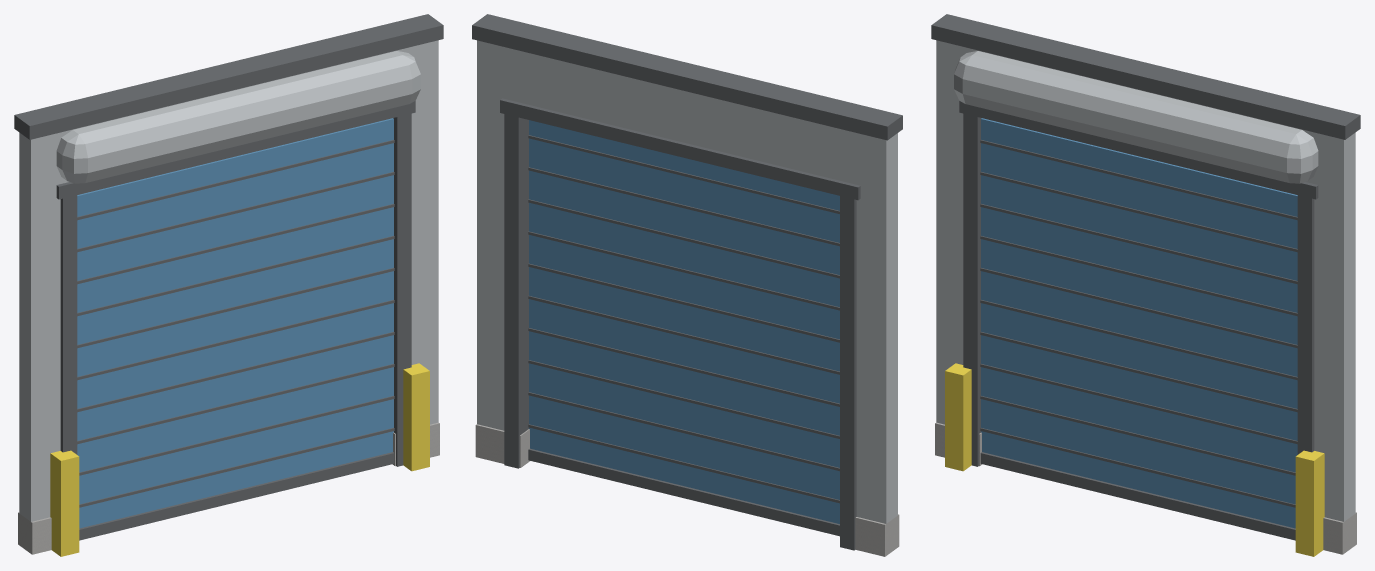
Rendered from car-repair-garage-and-mot-workshop-car-repair-garage-a-5ec190be__33998.glb.
The picture shows the model from 3 angles, left to right: view 1: azimuth 30°, elevation 25°; view 2: azimuth 150°, elevation 25°; view 3: azimuth 330°, elevation 25°; orthographic projection.
Parts seen in each view (by area): view 1: shutter/blue, car-repair-garage-and-mot-workshop-roller-shutter-door-modul (×4), shutter/charcoal; view 2: shutter/blue, car-repair-garage-and-mot-workshop-roller-shutter-door-modul (×3), shutter/charcoal; view 3: shutter/blue, car-repair-garage-and-mot-workshop-roller-shutter-door-modul (×4), shutter/charcoal.
Boxes of the visible parts, x1,y1,x2,y2 form: shutter/blue: (77,118,393,528); car-repair-garage-and-mot-workshop-roller-shutter-door-modul (×4): (14,14,443,556); shutter/charcoal: (77,140,394,540); shutter/blue: (529,120,839,523); car-repair-garage-and-mot-workshop-roller-shutter-door-modul (×3): (472,14,902,556); shutter/charcoal: (528,135,839,536); shutter/blue: (981,118,1297,528); car-repair-garage-and-mot-workshop-roller-shutter-door-modul (×4): (931,14,1360,556); shutter/charcoal: (980,140,1297,540).
Bounding box in the file's own units: 4.06 × 4.03 × 0.5.
Materials: 5 (1 with a texture image).
